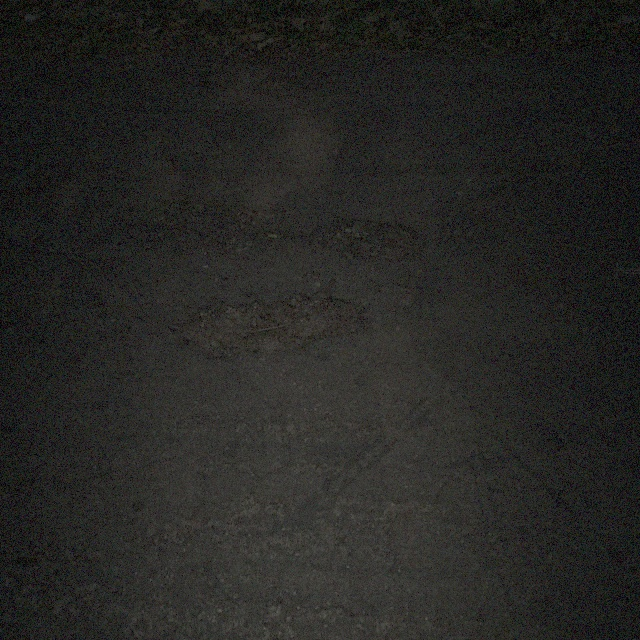pothole: (167, 286, 372, 360), (125, 197, 266, 259), (313, 212, 421, 264)
